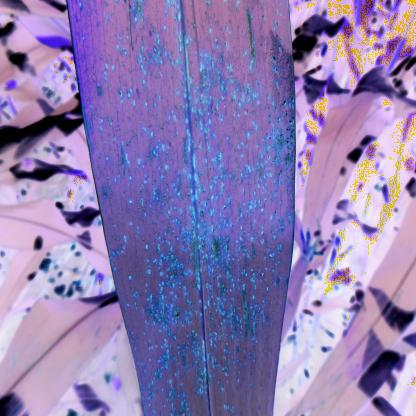corn rust leaf: (63, 2, 302, 414)
